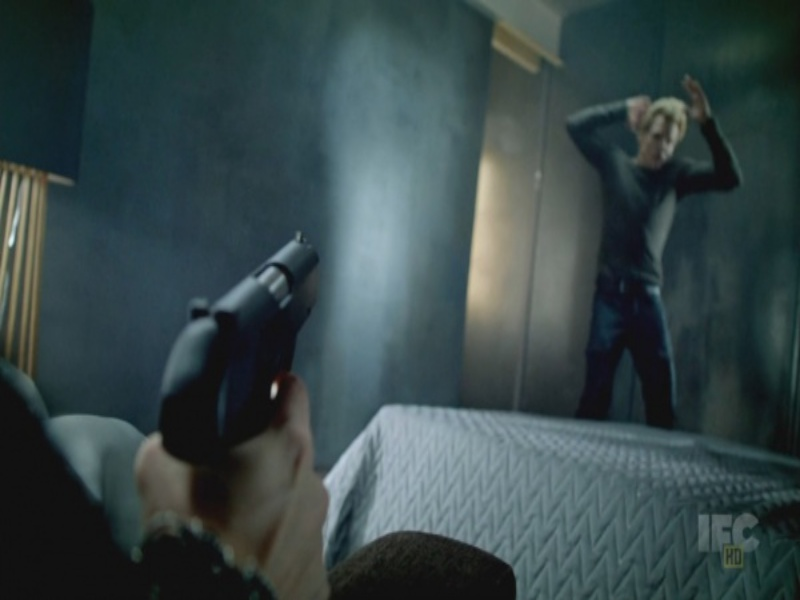person: (567, 75, 743, 416)
weapon: (160, 233, 323, 451)
